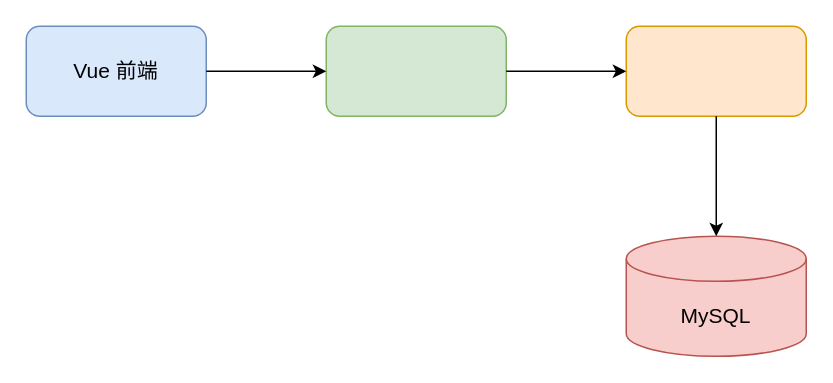
Image size: 833x383. Some labels were removed from this diagram. Here are the shapes that lost their labels. From the top down, the centre of each, then its label:
At (x=415, y=70): "API 网关".
At (x=715, y=70): "后端服务".
